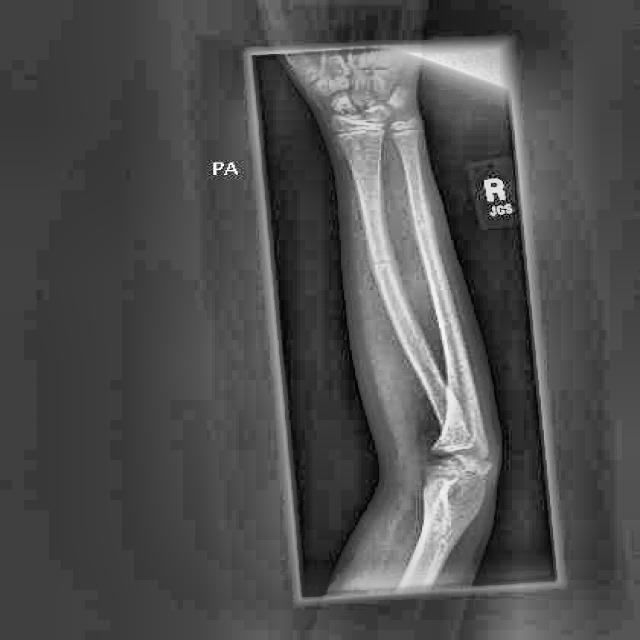forearm fracture: (357, 232, 427, 312)
